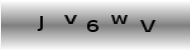6: (86, 19, 99, 32)
J: (35, 15, 45, 32)
V: (139, 19, 157, 33)
v: (62, 13, 78, 25)
w: (109, 14, 129, 24)
